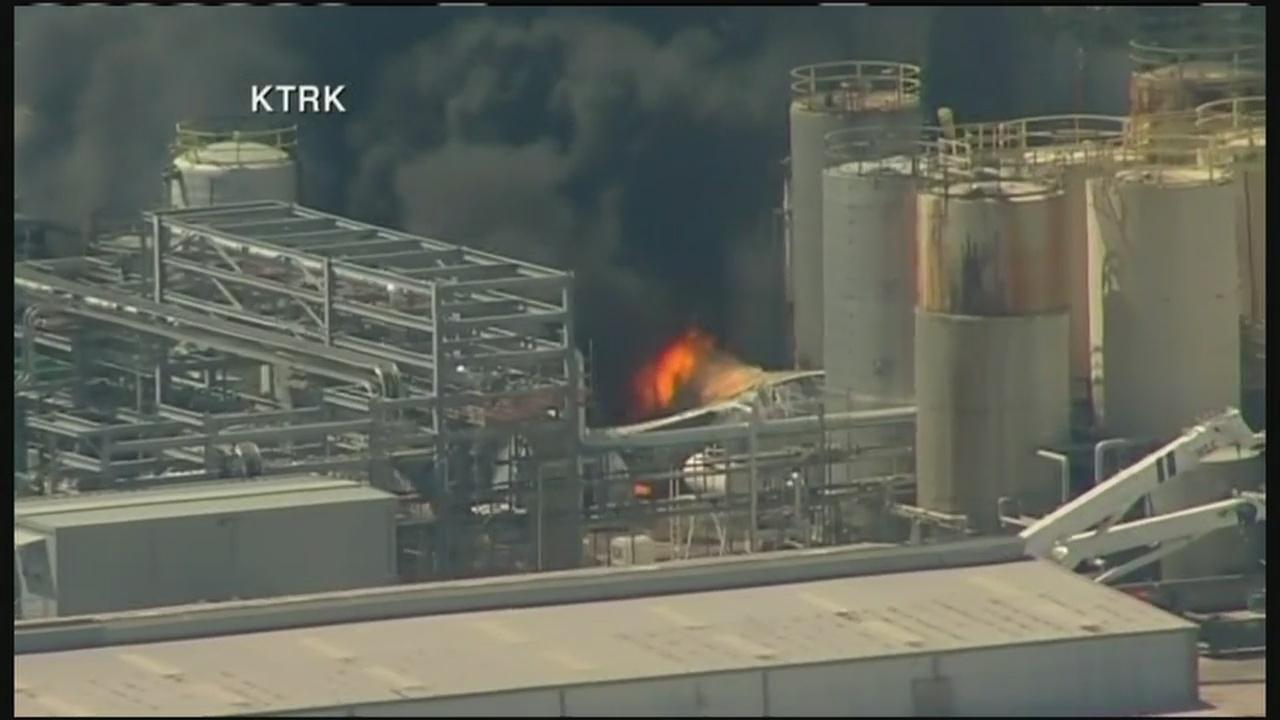Fire: (618, 311, 734, 415)
